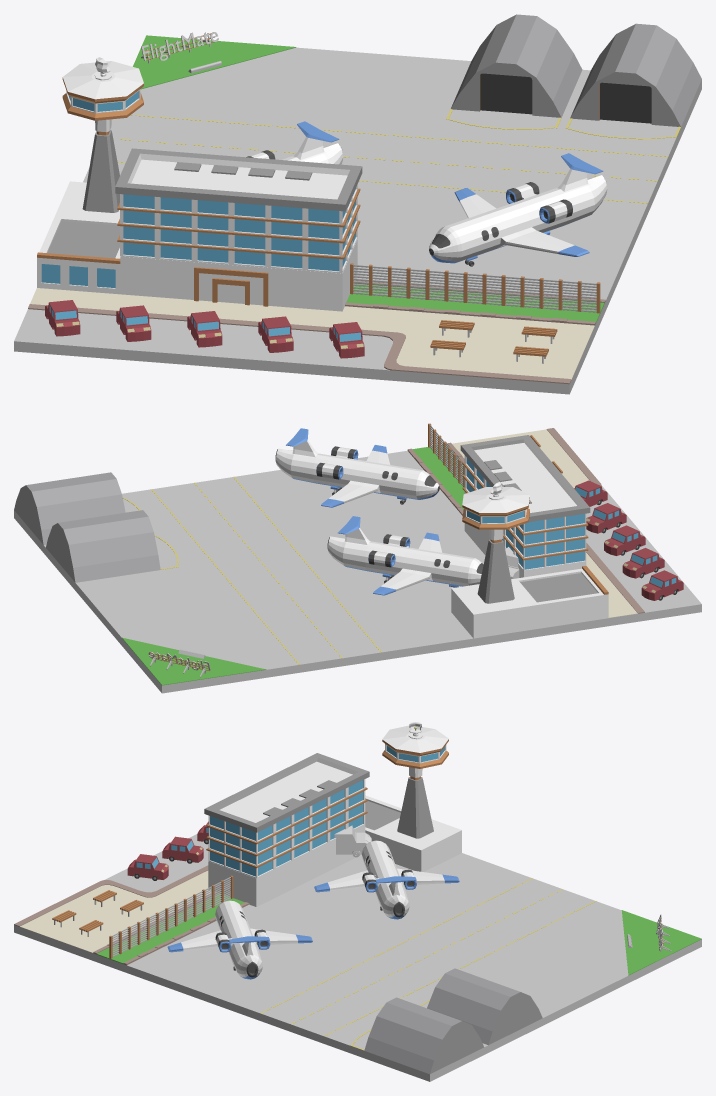
File: Airport.glb
3 views of the same model, one above another, from view 1: azimuth 30°, elevation 25°; view 2: azimuth 150°, elevation 25°; view 3: azimuth 270°, elevation 25° (orthographic). The views are drawn at different scales.
Visible parts, largest first — view 1: Cube.002, Cube, Cube.006, Cube.010, Torus.002, Cube.001, Cube.004, Cube.012, Cylinder.002, Cube.009, Cube.007, Cube.005 (+6 smaller); view 2: Cube.002, Cube.006, Cube, Cube.004, Torus.002, Torus.003, Cylinder.002, Cube.010, Cube.007, Cube.005, Cube.003, Cube.009 (+4 smaller); view 3: Cube.002, Cube, Cube.006, Cube.010, Cube.004, Cube.001, Torus.003, Torus.002, Cube.007, Cube.009, Cube.005, Cube.012 (+6 smaller).
Part boxes in pixels (x1=…): Cube.002: x1=14, y1=47, x2=701, y2=394; Cube: x1=115, y1=148, x2=362, y2=273; Cube.006: x1=451, y1=14, x2=701, y2=126; Cube.010: x1=28, y1=288, x2=594, y2=384; Torus.002: x1=429, y1=153, x2=607, y2=266; Cube.001: x1=120, y1=239, x2=357, y2=311; Cube.004: x1=37, y1=181, x2=120, y2=294; Cube.012: x1=353, y1=264, x2=596, y2=312; Cylinder.002: x1=45, y1=300, x2=364, y2=358; Cube.009: x1=345, y1=280, x2=605, y2=325; Cube.007: x1=133, y1=35, x2=296, y2=89; Cube.005: x1=62, y1=61, x2=143, y2=120; Cube.002: x1=14, y1=450, x2=701, y2=693; Cube.006: x1=14, y1=472, x2=160, y2=582; Cube: x1=460, y1=435, x2=590, y2=571; Cube.004: x1=451, y1=566, x2=608, y2=638; Torus.002: x1=275, y1=428, x2=439, y2=507; Torus.003: x1=327, y1=516, x2=483, y2=595; Cylinder.002: x1=574, y1=480, x2=683, y2=600; Cube.010: x1=452, y1=428, x2=644, y2=617; Cube.007: x1=122, y1=637, x2=266, y2=685; Cube.005: x1=462, y1=487, x2=529, y2=529; Cube.003: x1=477, y1=529, x2=514, y2=603; Cube.009: x1=407, y1=442, x2=464, y2=515; Cube.002: x1=14, y1=834, x2=701, y2=1081; Cube: x1=204, y1=753, x2=369, y2=878; Cube.006: x1=364, y1=968, x2=542, y2=1074; Cube.010: x1=14, y1=865, x2=211, y2=952; Cube.004: x1=365, y1=795, x2=461, y2=871; Cube.001: x1=208, y1=825, x2=365, y2=906; Torus.003: x1=314, y1=840, x2=459, y2=919; Torus.002: x1=167, y1=900, x2=312, y2=979; Cube.007: x1=621, y1=910, x2=701, y2=975; Cube.009: x1=93, y1=891, x2=249, y2=965; Cube.005: x1=382, y1=725, x2=448, y2=768; Cube.012: x1=112, y1=877, x2=230, y2=956.
Bounding box in the file's own units: 55.13 × 12.48 × 56.3.
